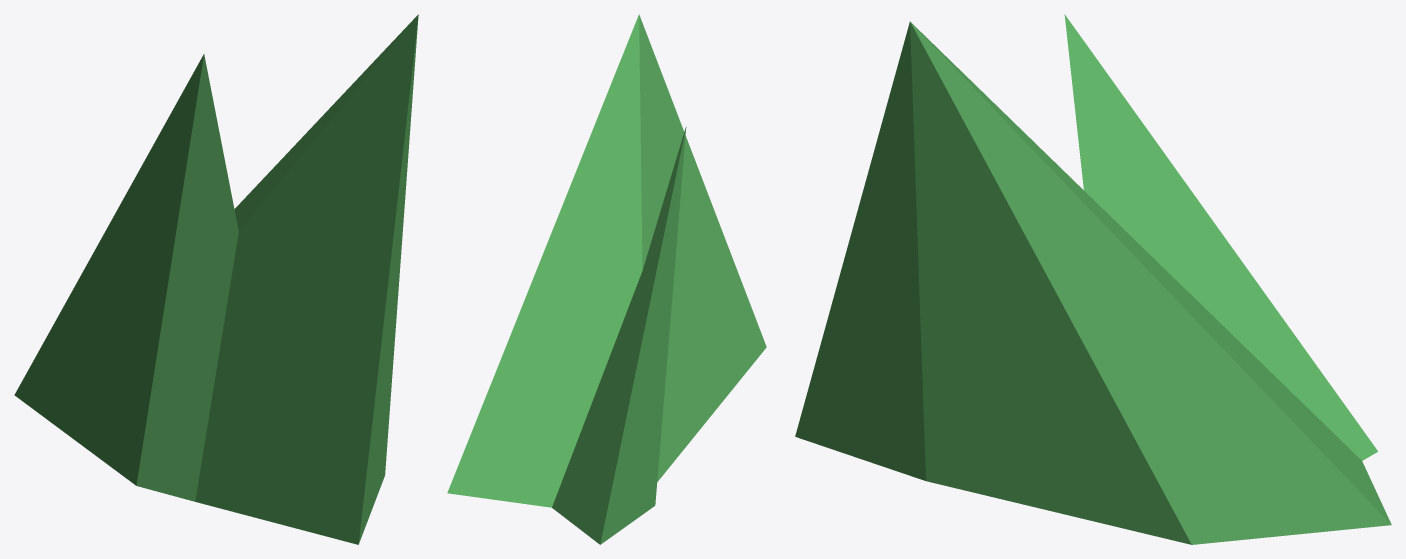
The model's file is STA_Project_Vegetations_Grass_V3.fbx.
3 renders of one model, left to right at view 1: azimuth 30°, elevation 25°; view 2: azimuth 150°, elevation 25°; view 3: azimuth 270°, elevation 25°, orthographic. The views are drawn at different scales.
Parts seen in each view (by area): view 1: Grass_V3; view 2: Grass_V3; view 3: Grass_V3.
Part boxes in pixels (box(x1,y1,x2,y2)): Grass_V3: box(14, 14, 418, 544); Grass_V3: box(447, 14, 766, 544); Grass_V3: box(795, 14, 1391, 544).
Bounding box in the file's own units: 48.14 × 103 × 102.
Materials: 1 (1 with a texture image).
